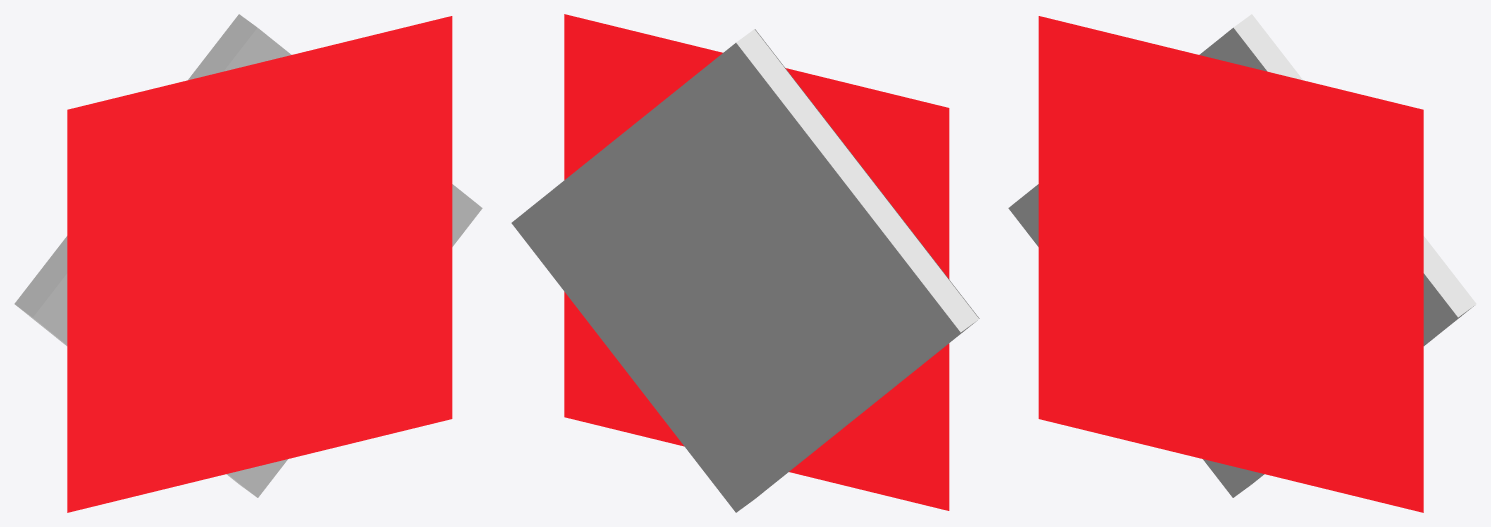
File: sign_katana_diamond.glb
3 renders of one model, left to right at view 1: azimuth 30°, elevation 25°; view 2: azimuth 150°, elevation 25°; view 3: azimuth 330°, elevation 25°, orthographic.
Parts seen in each view (by area): view 1: sign_katana_diamond_LOD0; view 2: sign_katana_diamond_LOD0; view 3: sign_katana_diamond_LOD0.
Boxes of the visible parts, left/top/right/bottom form: sign_katana_diamond_LOD0: left=14, top=14, right=482, bottom=512; sign_katana_diamond_LOD0: left=511, top=14, right=979, bottom=512; sign_katana_diamond_LOD0: left=1008, top=14, right=1476, bottom=512.
Size of what is drawn, in the model's own units: 0.7 by 0.7 by 0.056.
